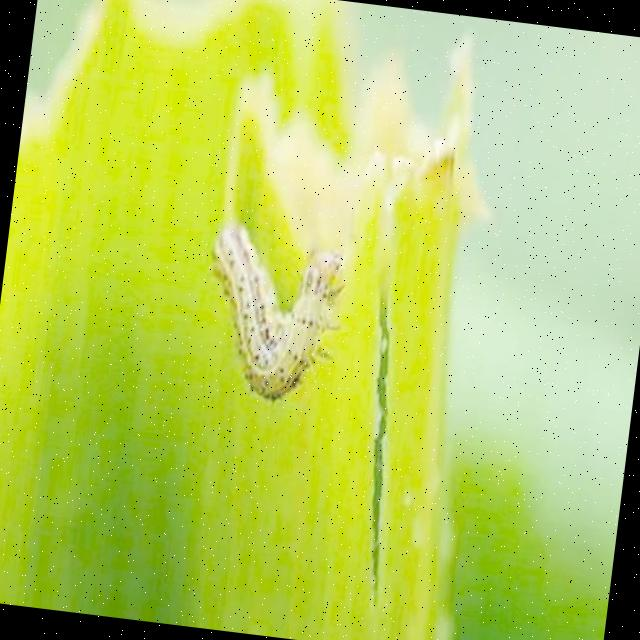worm: (194, 219, 354, 410)
